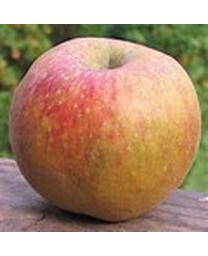apple: (8, 36, 201, 221)
